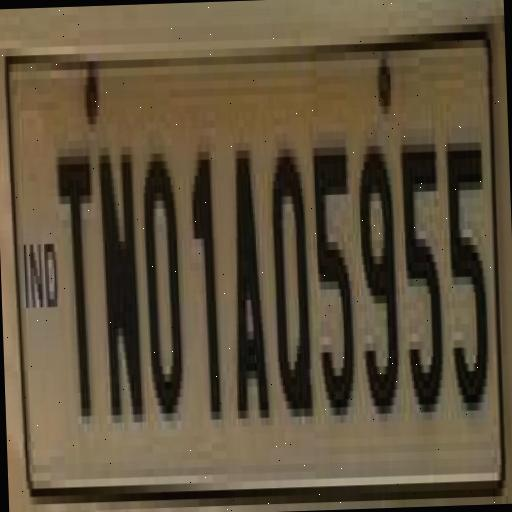number plate: (0, 7, 497, 512)
